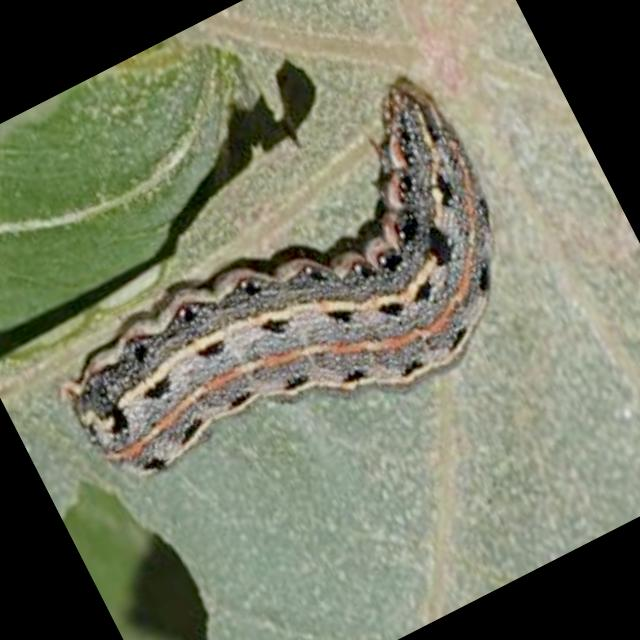Tobacco cutworm: (0, 4, 596, 567)
